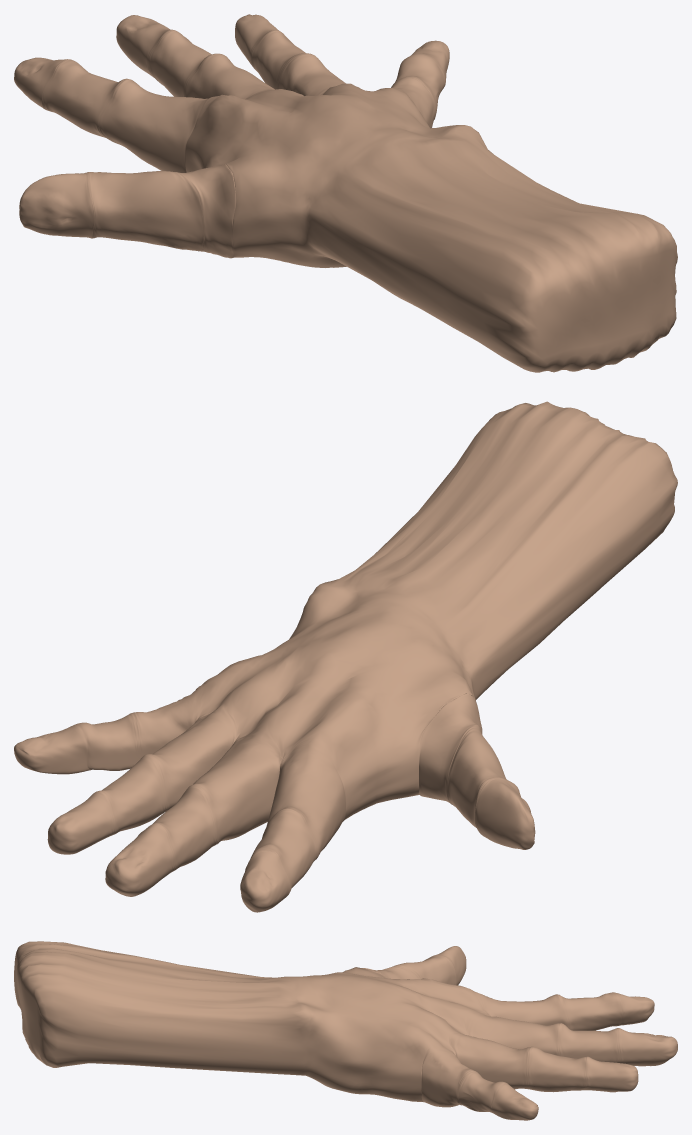
Rendered from Hand.fbx.
The picture shows the model from 3 angles, top to bottom: view 1: azimuth 30°, elevation 25°; view 2: azimuth 150°, elevation 25°; view 3: azimuth 270°, elevation 25°; orthographic projection. The views are drawn at different scales.
Visible parts, largest first — view 1: Box001; view 2: Box001; view 3: Box001.
Part boxes in pixels (bbox=[...]): Box001: bbox=[14, 14, 677, 372]; Box001: bbox=[14, 401, 677, 912]; Box001: bbox=[14, 941, 677, 1120].
Bounding box in the file's own units: 35.36 × 12.93 × 62.13.
